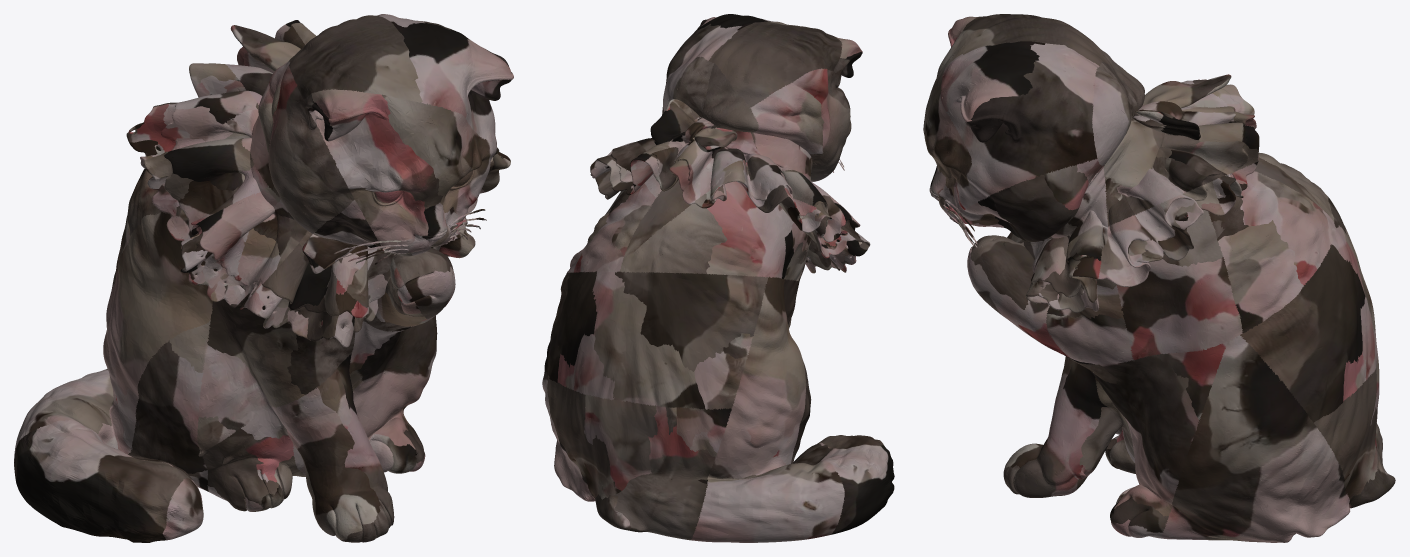
Rendered from cat2.glb.
The picture shows the model from 3 angles, left to right: view 1: azimuth 30°, elevation 25°; view 2: azimuth 150°, elevation 25°; view 3: azimuth 270°, elevation 25°; orthographic projection. The views are drawn at different scales.
Parts seen in each view (by area): view 1: geometry_0; view 2: geometry_0; view 3: geometry_0.
Part boxes in pixels (bbox=[...]): geometry_0: bbox=[14, 14, 513, 542]; geometry_0: bbox=[542, 14, 894, 542]; geometry_0: bbox=[923, 14, 1395, 542].
Bounding box in the file's own units: 0.2498 × 0.2941 × 0.271.
Materials: 1 (1 with a texture image).
